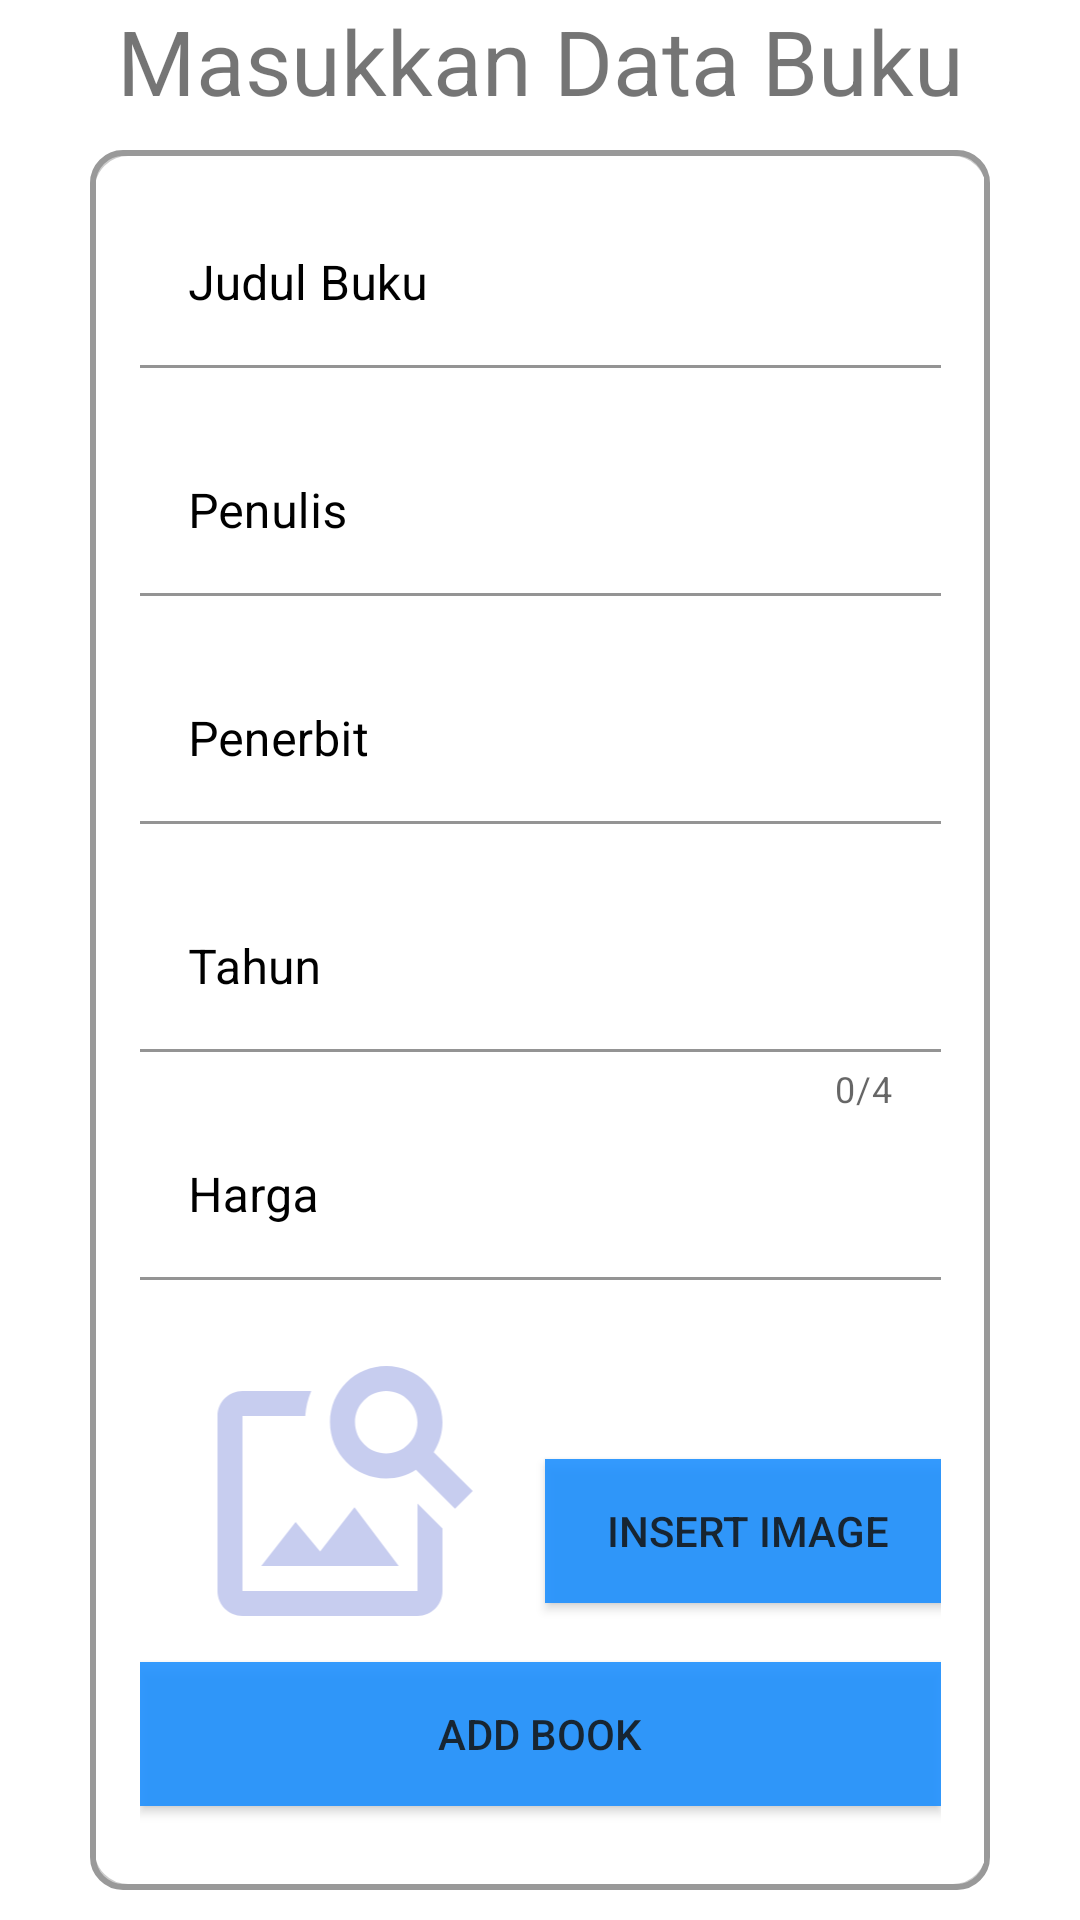

Icon bounding boxes for this 1080px x 1920px phone screenshot, format (x1, y1, x2, y2):
search: (217, 1366, 472, 1616)
